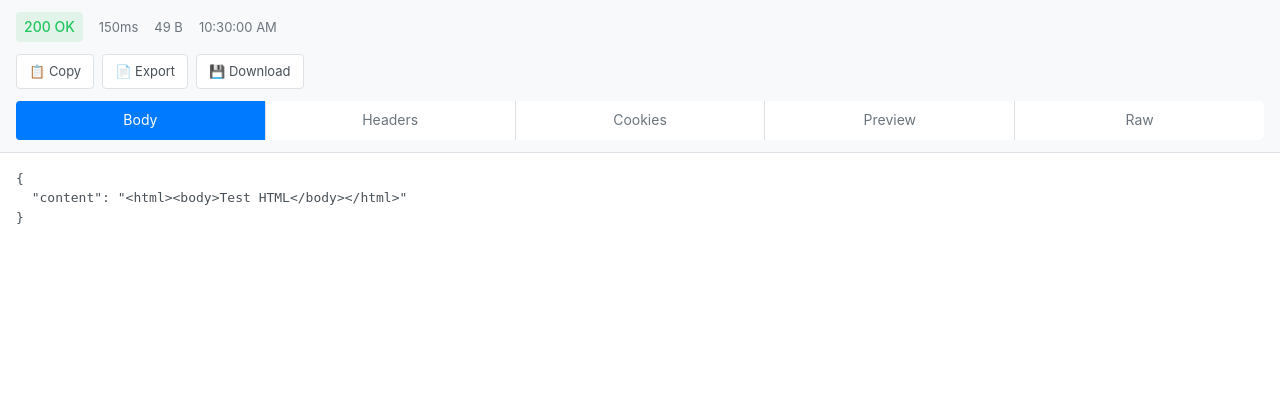
Test: ResponseView › should toggle property list visibility
Click the button "Preview".
click(890, 120)  # box [765, 101, 1014, 140]
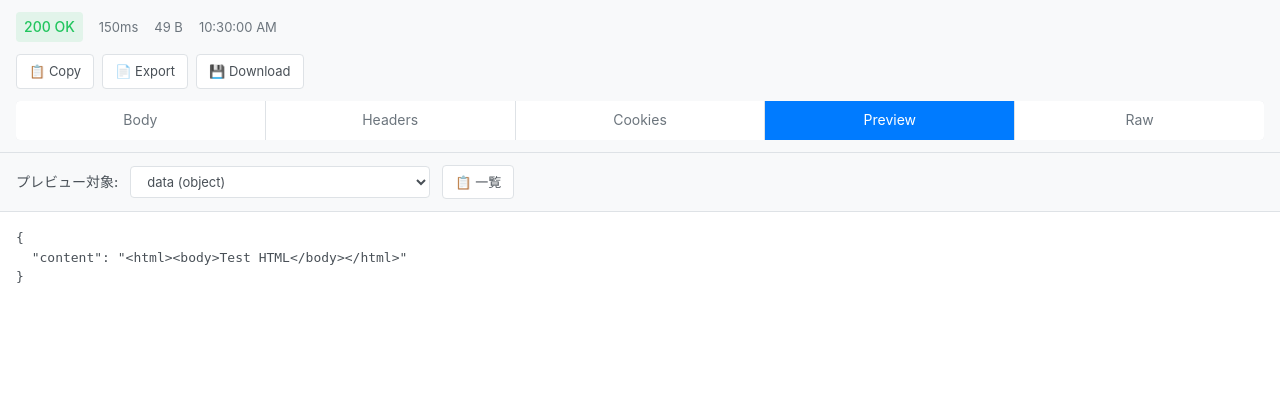
expect the text "利用可能なプロパティ:" is not shown: met
expect the button "📋 一覧" is shown: met
# トグルボタンをクリック
Click the button "📋 一覧".
click(478, 182)  # box [442, 165, 514, 199]
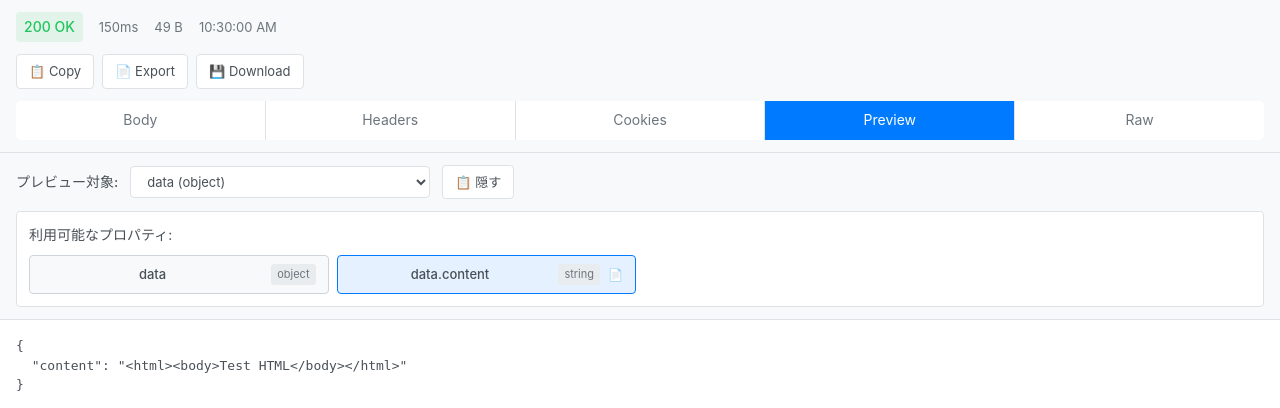
expect the heading "利用可能なプロパティ:" is shown: met, box [29, 226, 172, 243]
